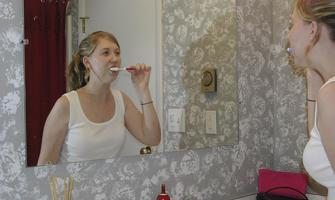person: (36, 29, 163, 175)
